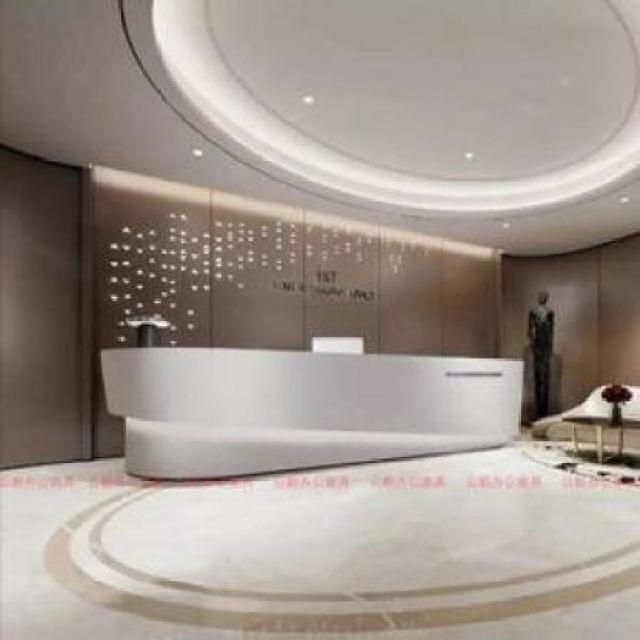frontdesk: (91, 326, 534, 489)
